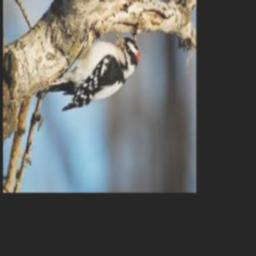Woodpecker: (42, 30, 139, 111)
